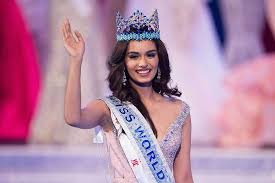indian_female: (99, 24, 185, 103)
